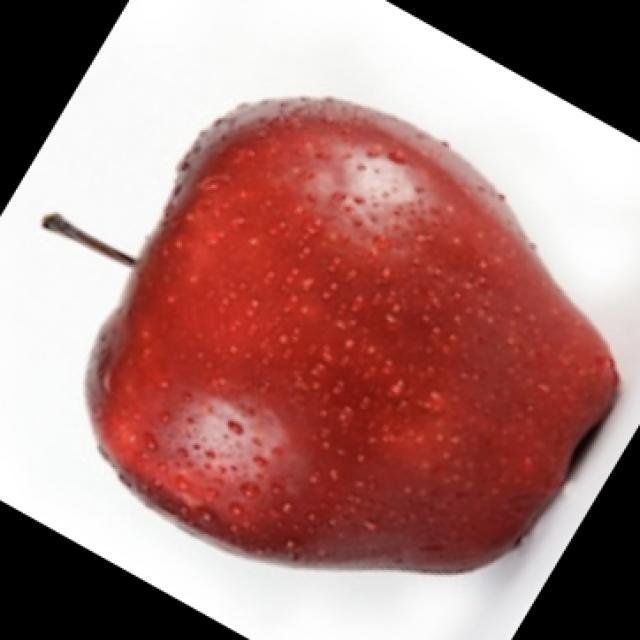Fresh Apple: (75, 90, 619, 578)
